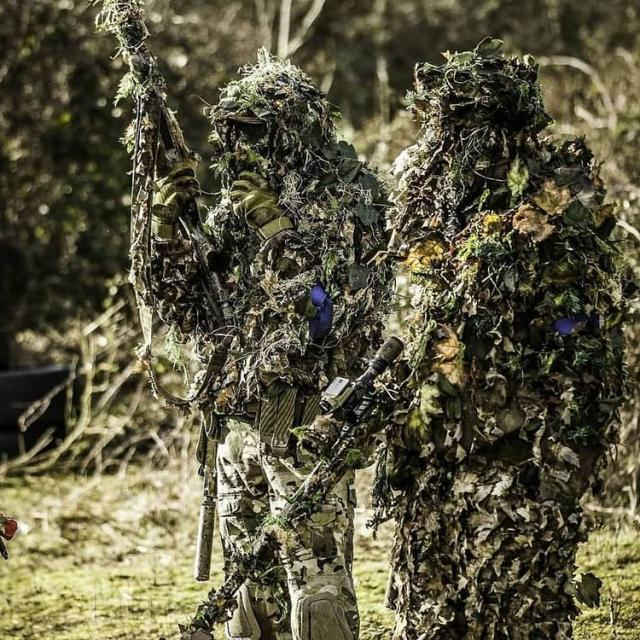Human: (199, 33, 633, 616), (93, 8, 392, 622)
